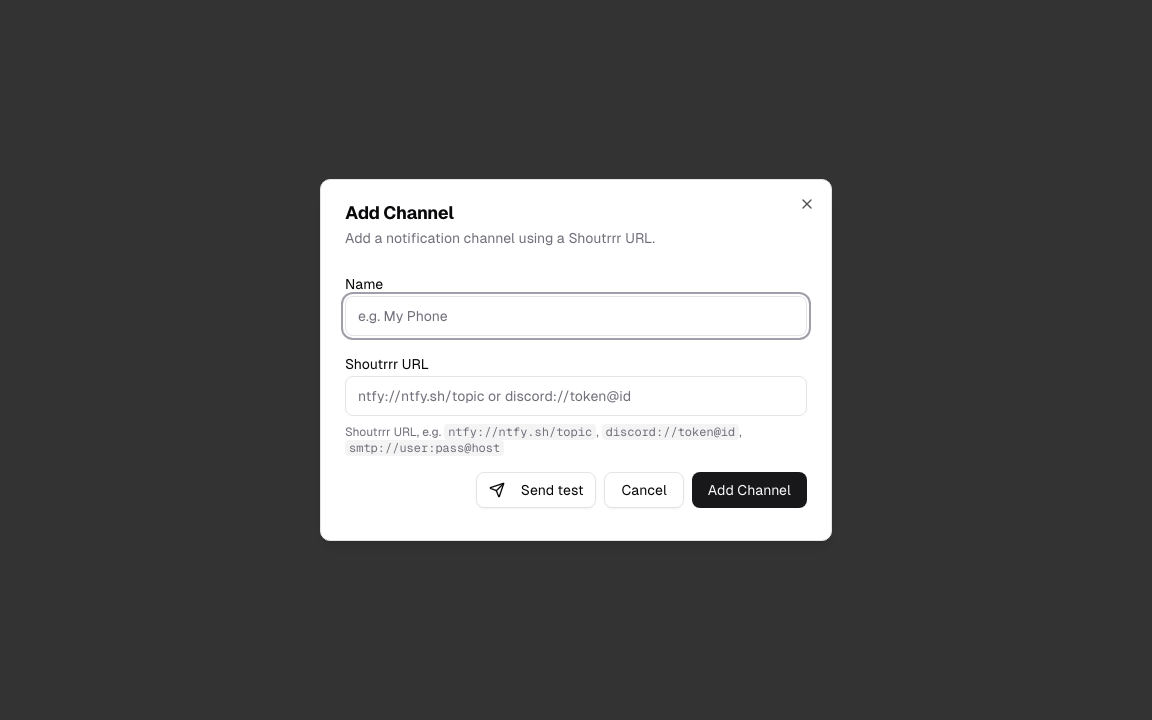
Test: ChannelDialog › add mode rejects a blank URL
The image size is (1152, 720).
Note: Fill name but leave URL blank
Type "My Channel" into the field labelled "Name". click: (576, 316)
box: [345,296,807,336]
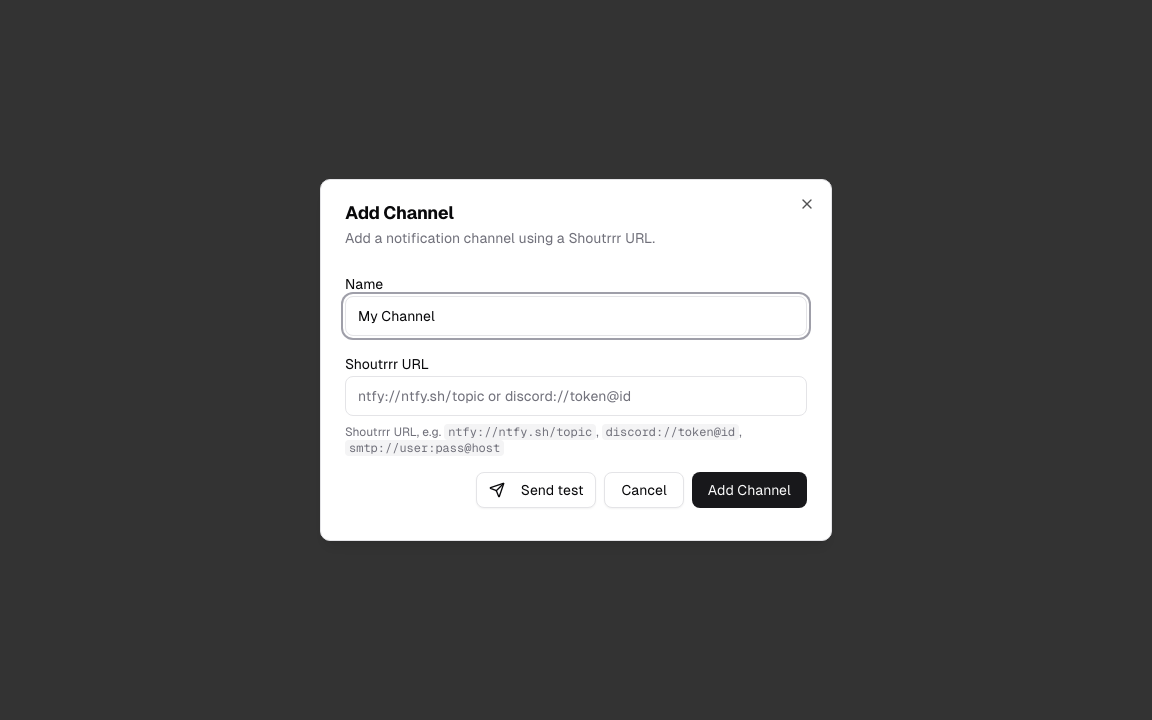
Click the button "Add Channel". click: click(749, 490)
box: [692,472,807,508]
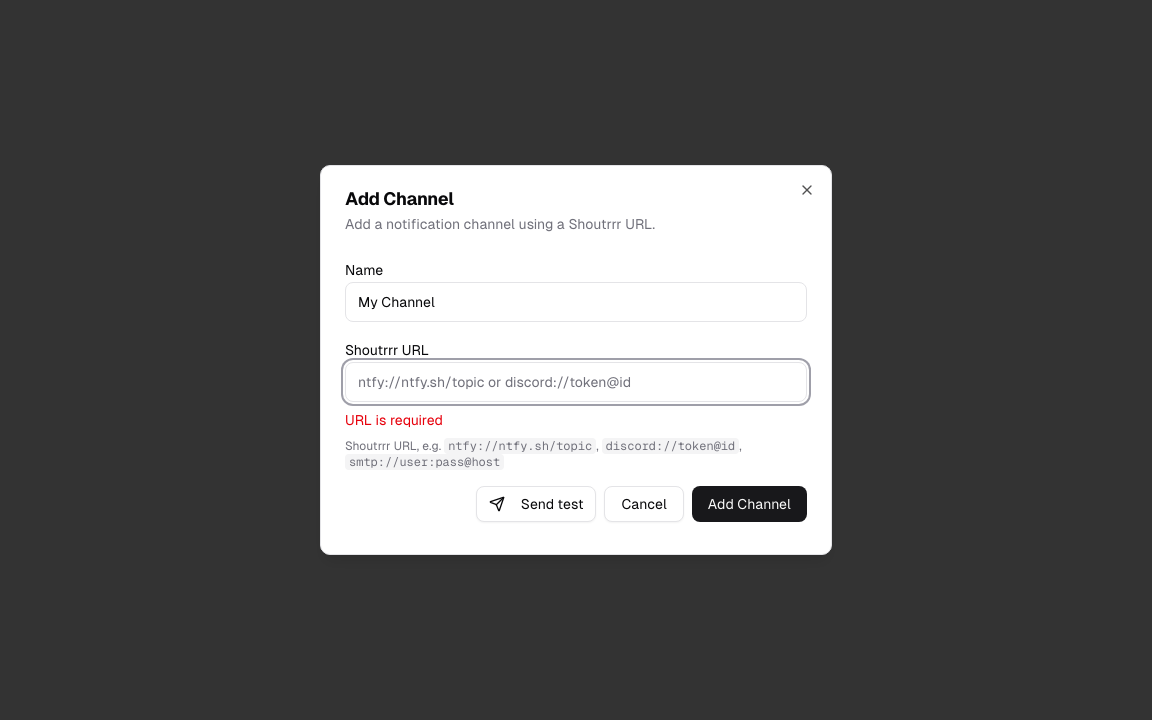
Expected: the text "URL is required" is shown, [345,412,443,428]
